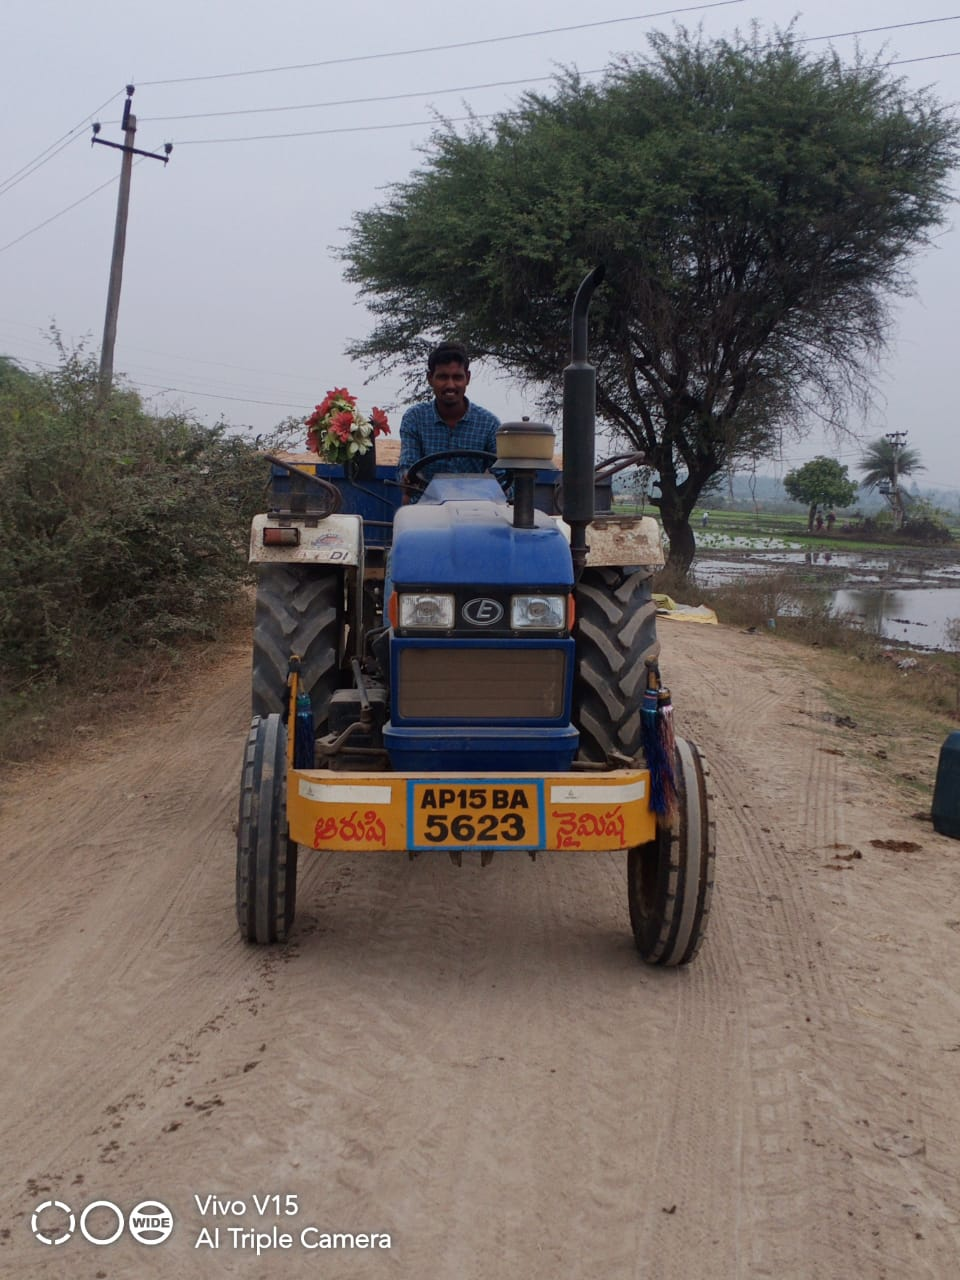num_plate: (409, 776, 542, 849)
